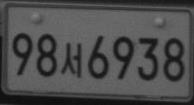3: (137, 36, 159, 81)
6: (86, 34, 109, 79)
8: (162, 36, 186, 82), (35, 32, 58, 77)
9: (112, 35, 134, 80), (11, 32, 33, 75)
서: (60, 41, 82, 79)
